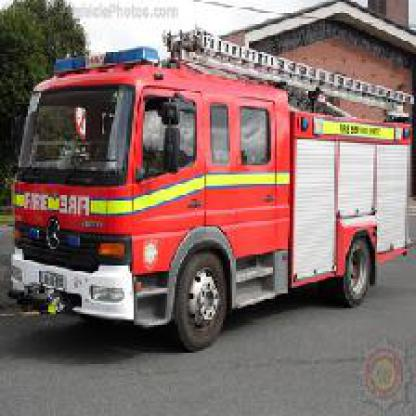emergency: (8, 35, 414, 358)
